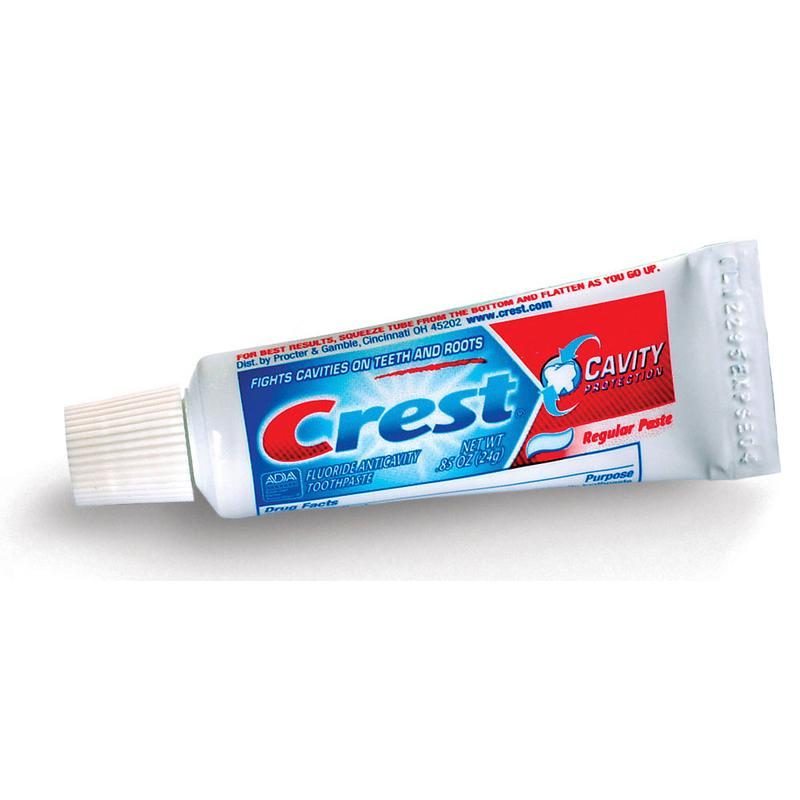toothpaste: (52, 229, 777, 553)
